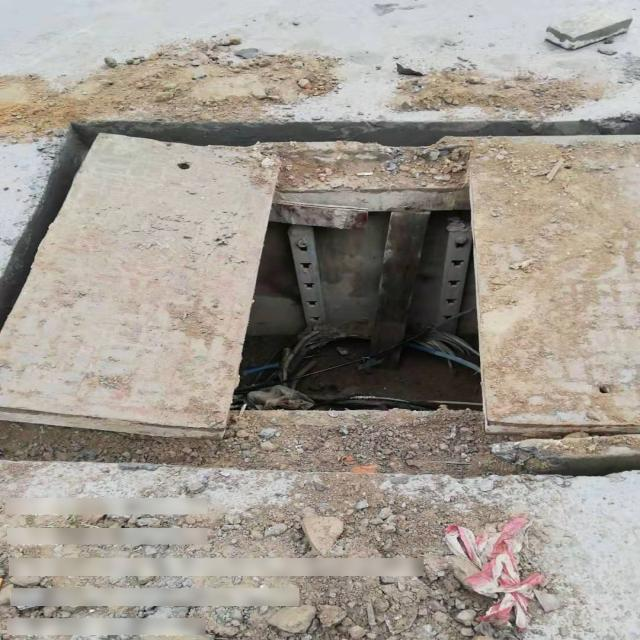Faulty: (0, 114, 639, 468)
